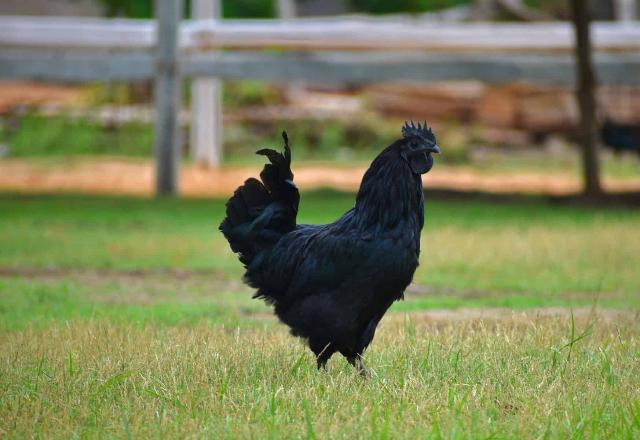Chicken: (219, 118, 442, 379)
